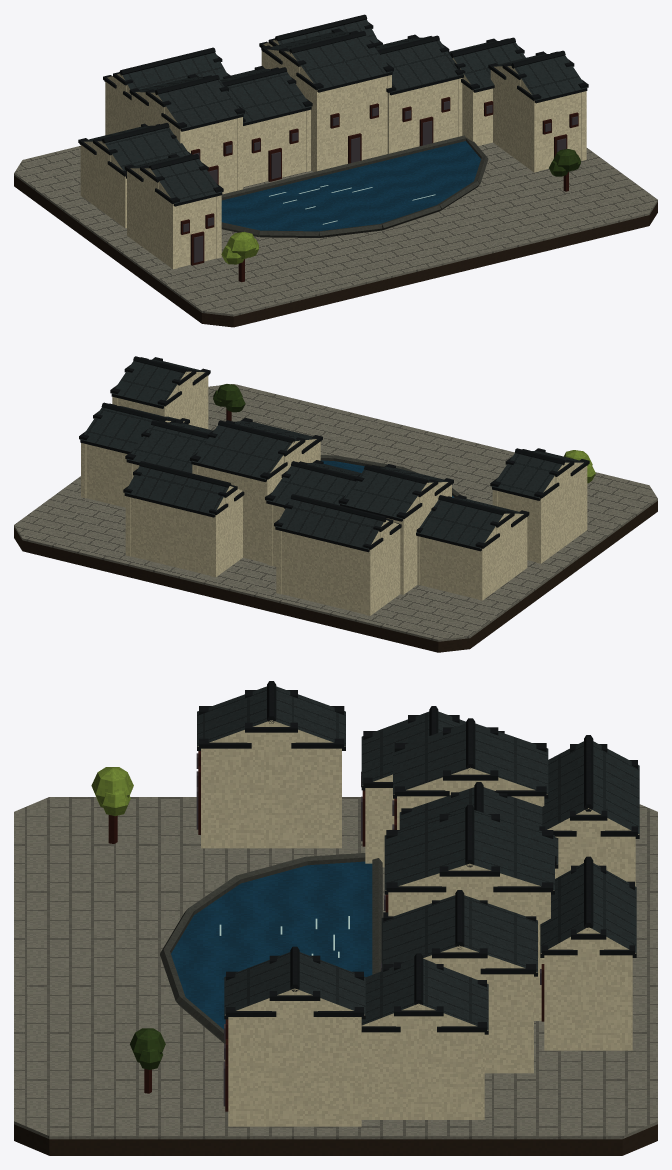
The model's file is hongcun.glb.
The picture shows the model from 3 angles, top to bottom: view 1: azimuth 30°, elevation 25°; view 2: azimuth 150°, elevation 25°; view 3: azimuth 270°, elevation 25°; orthographic projection. The views are drawn at different scales.
Parts seen in each view (by area): view 1: 宏村; view 2: 宏村; view 3: 宏村.
Boxes of the visible parts, x1,y1,x2,y2 form: 宏村: [14, 14, 657, 327]; 宏村: [14, 356, 657, 652]; 宏村: [14, 681, 657, 1155].
Size of the model in its own units: 9.6 by 2.38 by 7.7.
Materials: 12 (10 with a texture image).
